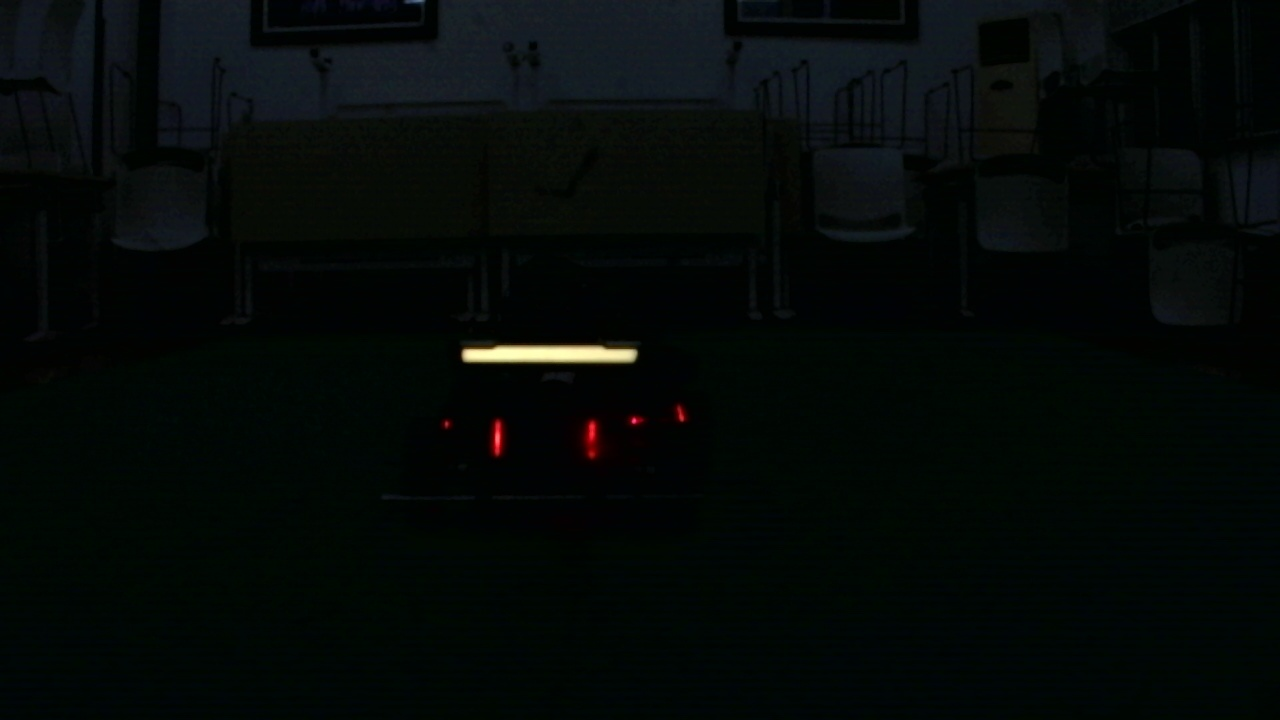lamp: (580, 415, 598, 459), (488, 413, 504, 454)
pair1: (491, 419, 599, 453)
